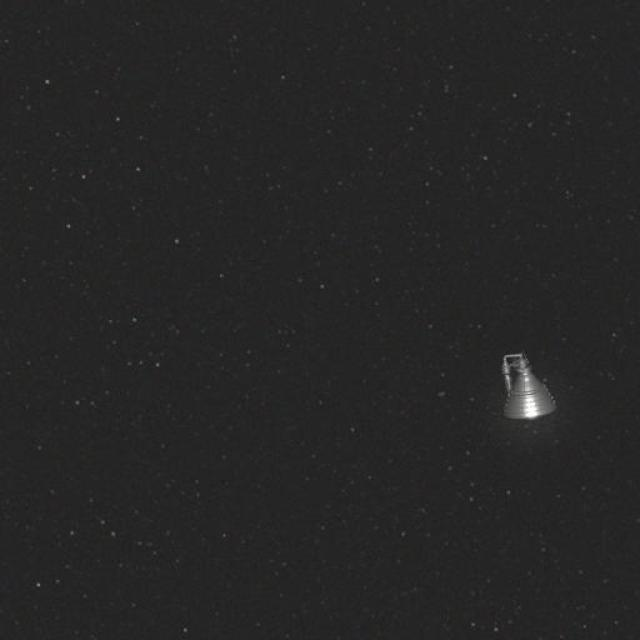debris: (488, 344, 565, 432)
